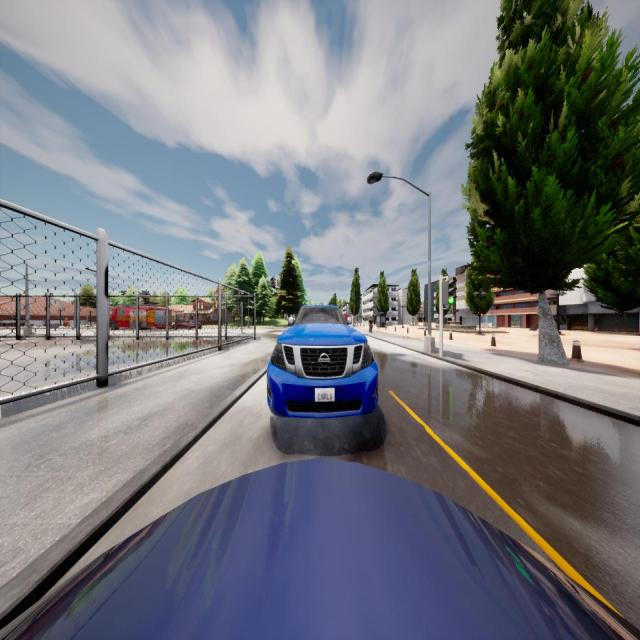Pedestrian: (368, 315, 373, 334)
Vehicle: (0, 463, 639, 640), (266, 306, 378, 418), (108, 306, 174, 330), (172, 318, 202, 330)
traffic_light: (442, 280, 456, 304), (238, 304, 241, 316)
